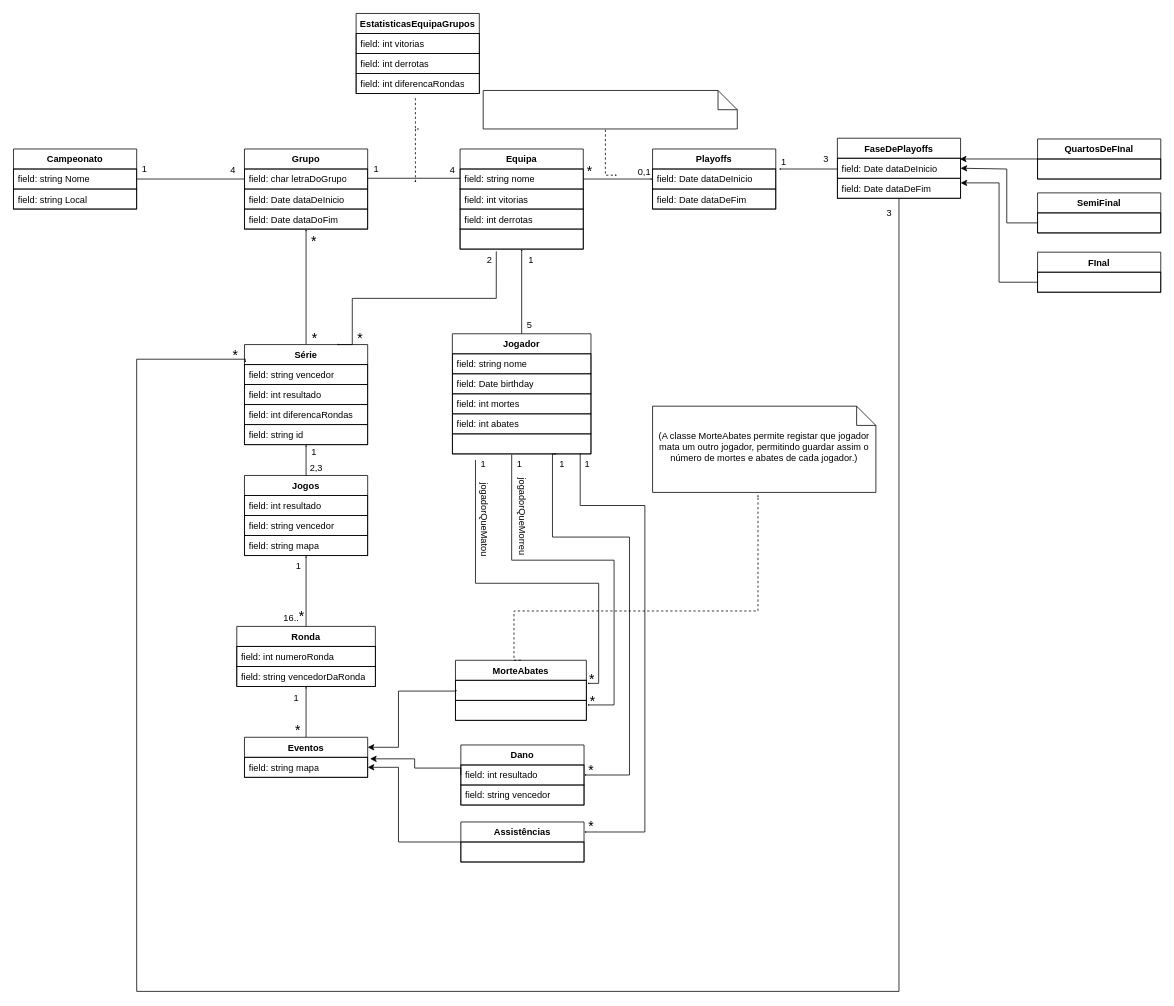
This 1174x1006 diagram has some shape labels left out. Each missing label, with the centre of its shape:
field int Premio: point 1099,281
field: float danoMedioCausado: point 521,443
field: int classificação: point 521,238
field: int Premio: point 1099,222
field:int Premio: point 1099,168
field:string jogadorMorto: point 520,690
field:string jogadorQueMatou: point 520,710
field; string jogador: point 522,851
Playoffs = 2 Equipa.EstatisticasEquipaGupos,vitorias ? 1:0: point 609,109
